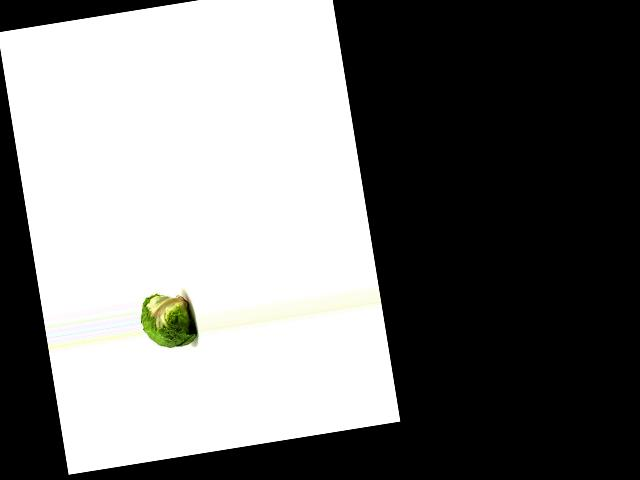lettuce: (137, 287, 201, 353)
